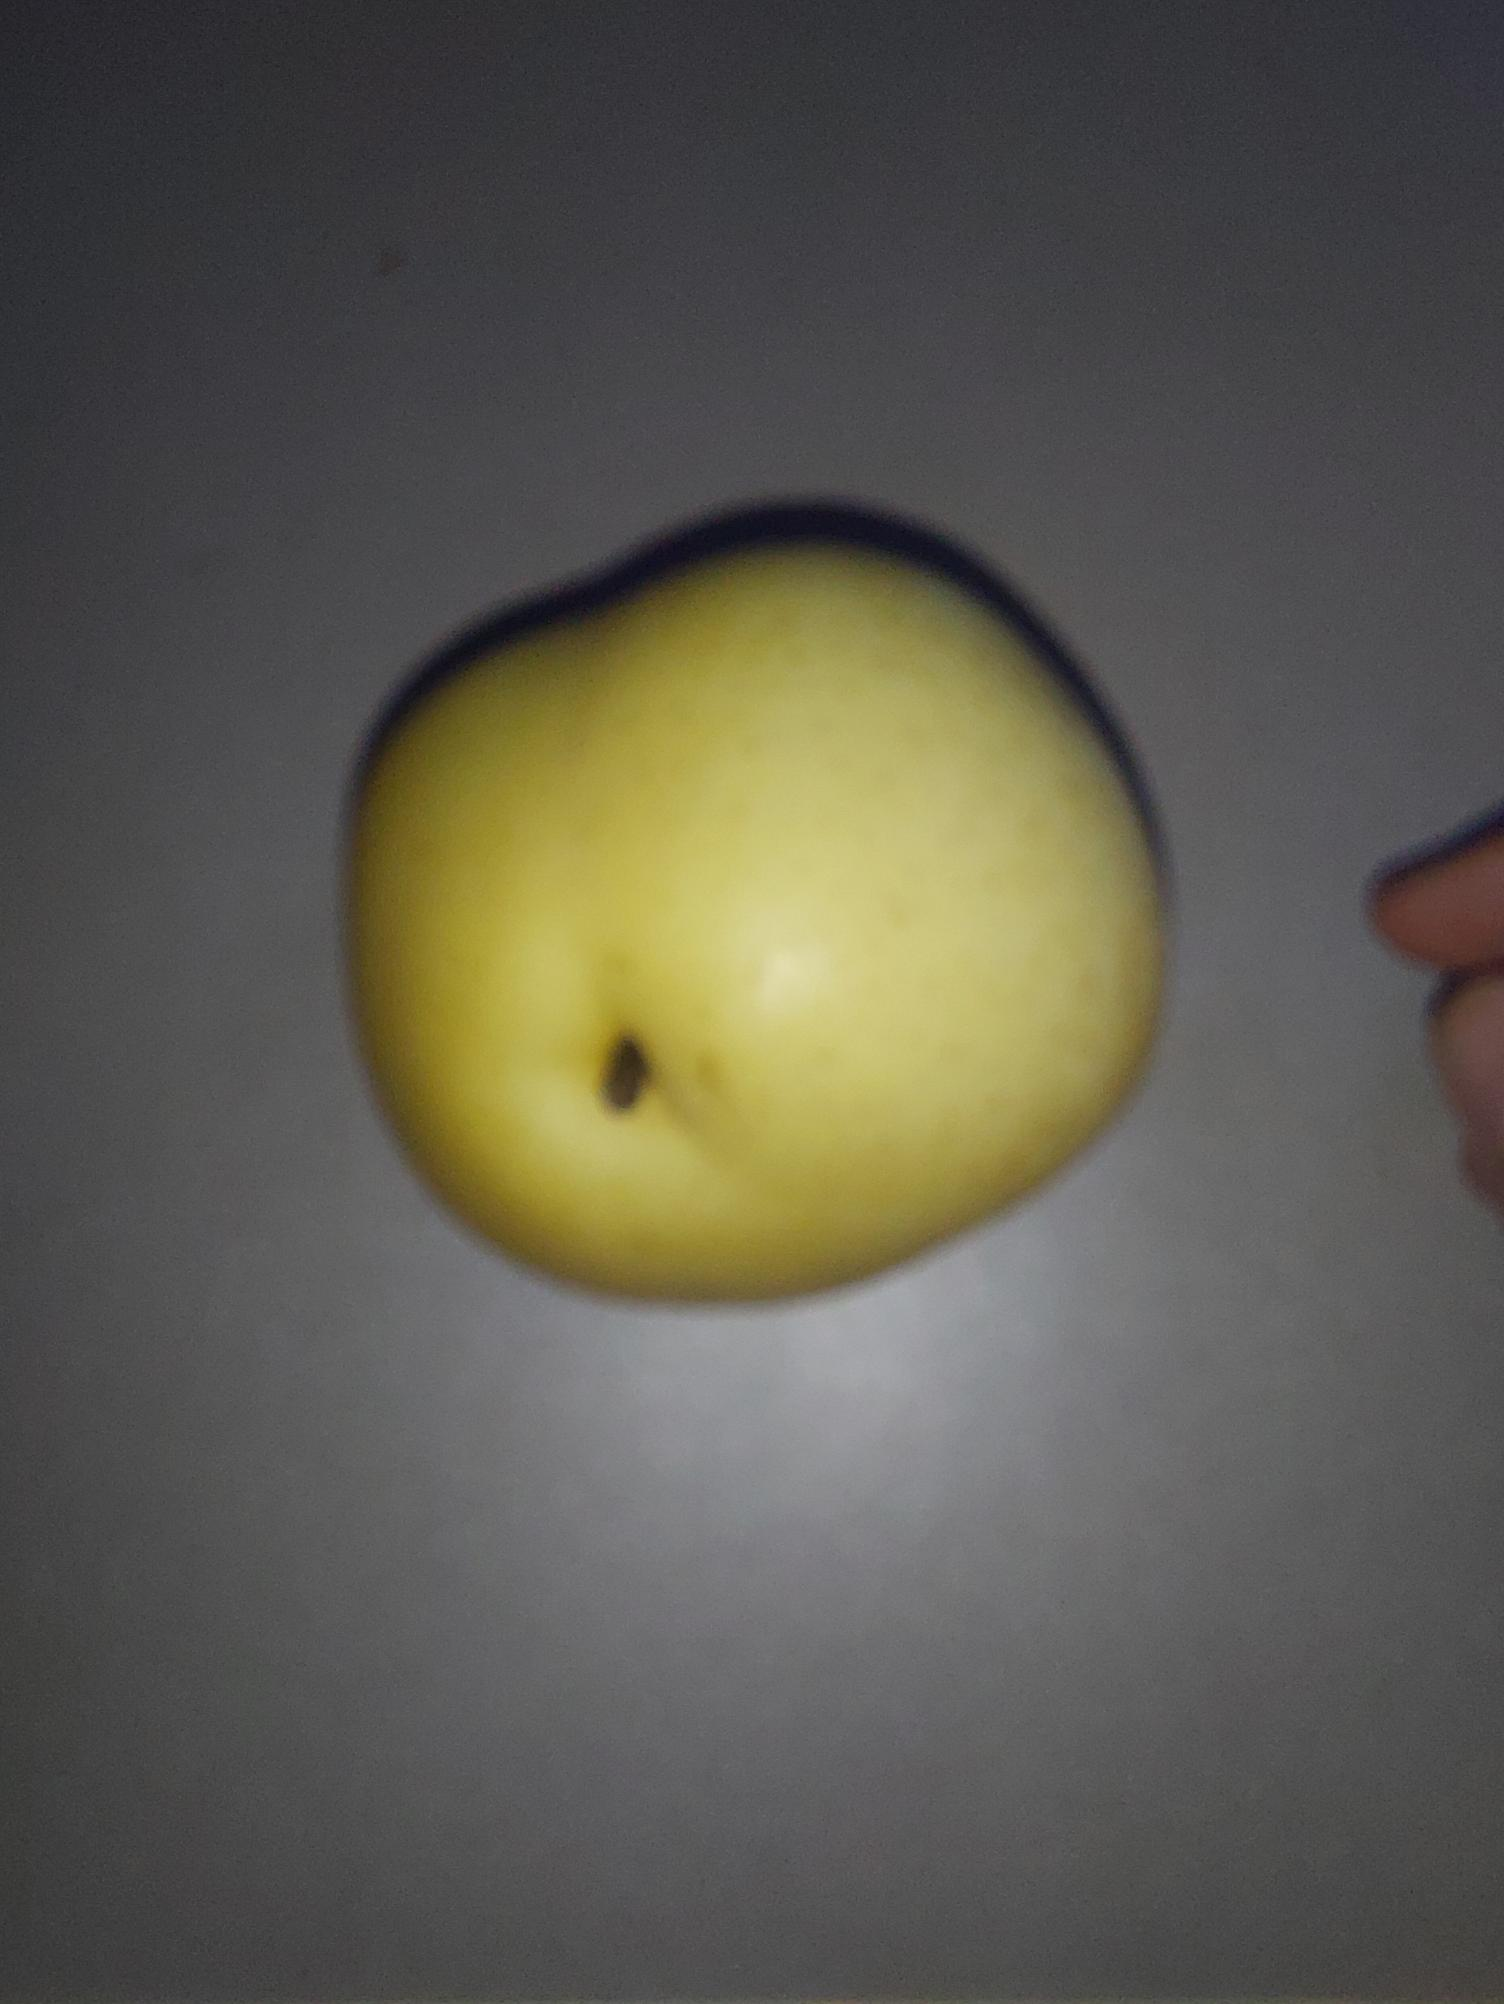Good Pear: (346, 491, 1174, 1303)
